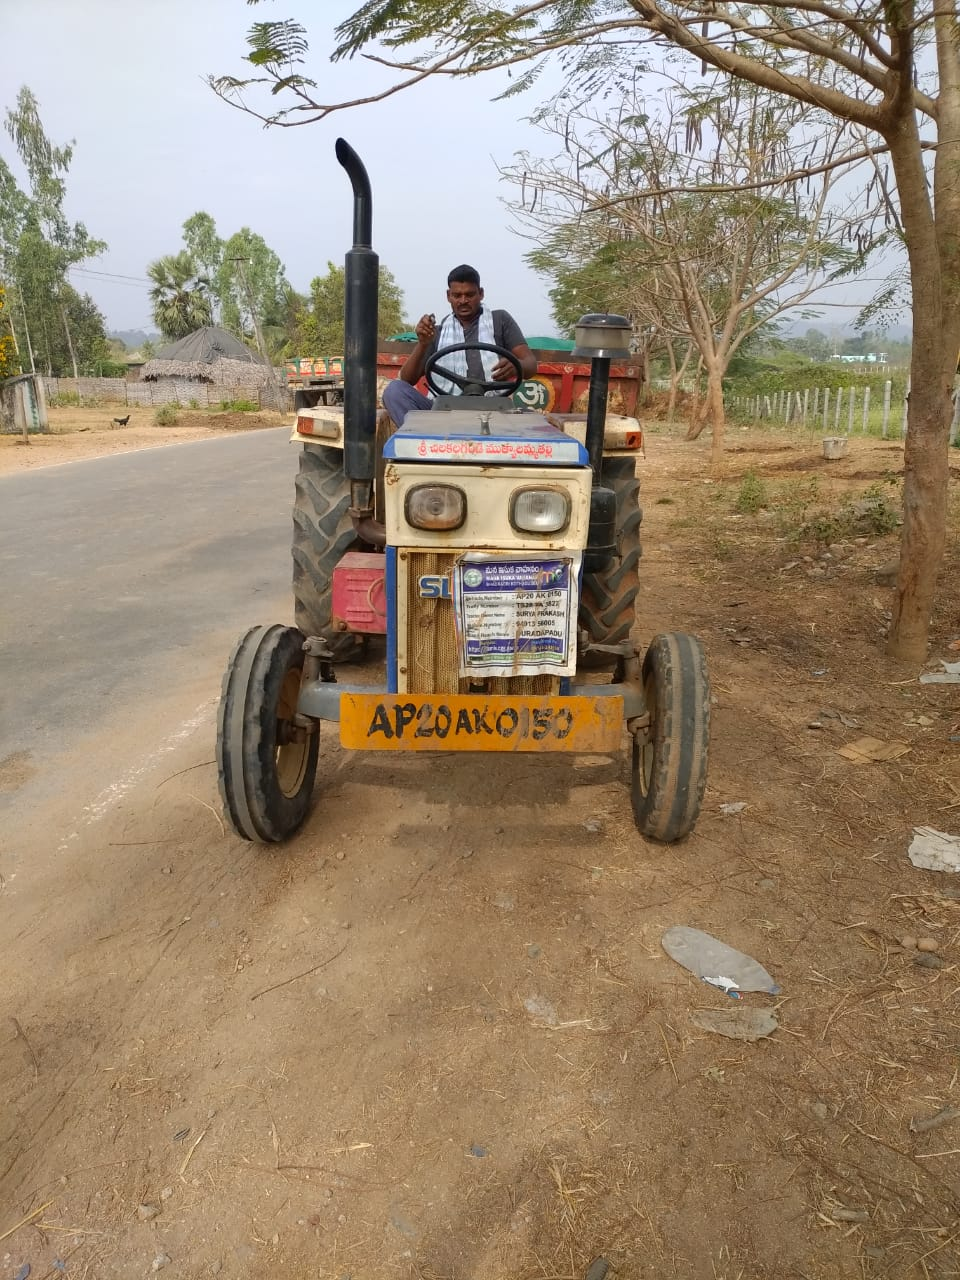license_plate: (343, 694, 622, 759)
